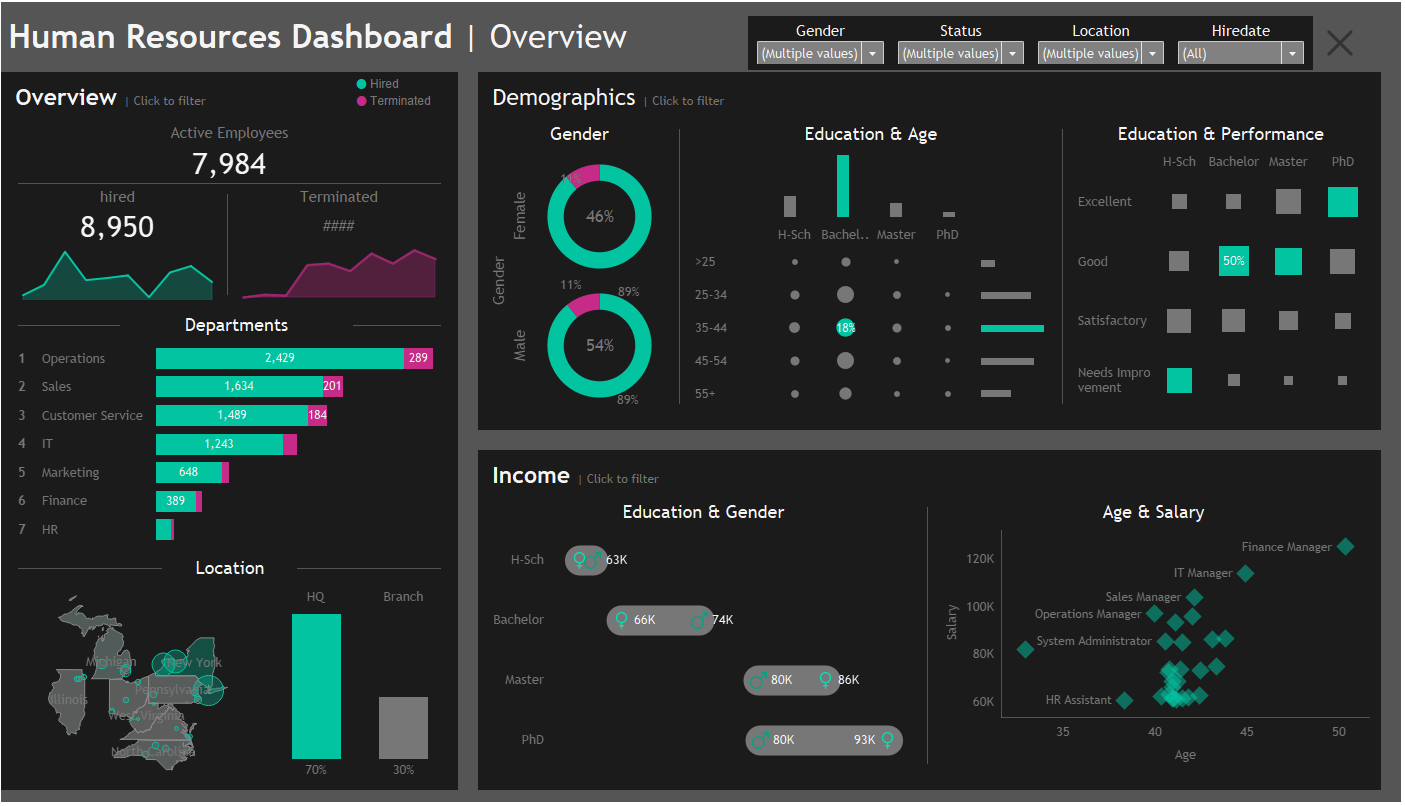

What the dashboard file says about the page in this screenshot:
{"tool":"tableau","page":{"name":"HR Dashboard","canvas":[1400,800],"ordinal":0},"visuals":[{"type":"text","box":[110,0,693,70]},{"type":"blank","box":[803,0,577,70]},{"type":"filter","title":"Gender vs Education level","param":"[federated.1w2r0qb0wcpkq01fmew5211hzvvi].[none:Gender:nk]","box":[749,16,141,50]},{"type":"filter","title":"Gender vs Education level","param":"[federated.1w2r0qb0wcpkq01fmew5211hzvvi].[none:Calculation_566890662182375424:nk","box":[890,16,140,50]},{"type":"filter","title":"Gender vs Education level","param":"[federated.1w2r0qb0wcpkq01fmew5211hzvvi].[none:Calculation_188588274449854466:nk","box":[1030,16,140,50]},{"type":"filter","title":"Gender vs Education level","param":"[federated.1w2r0qb0wcpkq01fmew5211hzvvi].[yr:Hiredate:ok]","box":[1170,16,140,50]},{"type":"image","param":"Image/Logo.png","box":[20,20,70,55]},{"type":"dashboard-object","box":[1320,22,39,38]},{"type":"text","box":[352,75,91,34]},{"type":"text","box":[117,77,333,35]},{"type":"text","box":[484,77,889,35]},{"type":"dashboard-object","box":[30,85,50,50]},{"type":"text","box":[117,112,333,32]},{"type":"text","box":[484,117,189,29]},{"type":"blank","box":[678,117,1,295]},{"type":"text","box":[684,117,372,29]},{"type":"blank","box":[1061,117,1,295]},{"type":"text","box":[1067,117,306,29]},{"type":"dashboard-object","box":[30,135,50,50]},{"type":"worksheet","title":"BAN Active","mark":"Text","box":[117,144,333,37]},{"type":"worksheet","title":"Gender","mark":"Pie","rows":["Gender"],"cols":["Calculation_1471832709374812161","Calculation_1471832709374812161"],"box":[484,146,189,266]},{"type":"worksheet","title":"Education Levels","mark":"Bar","rows":["Calculation_1857453410222510080"],"cols":["Education Level"],"box":[684,146,372,73]},{"type":"worksheet","title":"Education vs Performance","mark":"Square","rows":["Performance Rating"],"cols":["Education Level"],"box":[1067,146,306,266]},{"type":"blank","box":[117,181,333,1]},{"type":"text","box":[117,182,165,26]},{"type":"blank","box":[282,182,1,121]},{"type":"text","box":[283,182,167,26]},{"type":"worksheet","title":"BAN Hired","mark":"Text","box":[117,208,165,34]},{"type":"worksheet","title":"BAN Terminated","mark":"Text","box":[283,208,167,32]},{"type":"worksheet","title":"Age vs Education","mark":"Circle","rows":["Calculation_1471832709377675267"],"cols":["Education Level"],"box":[684,219,292,193]},{"type":"worksheet","title":"Age Groups","mark":"Bar","rows":["Calculation_1471832709377675267"],"cols":["Calculation_1857453410222510080"],"box":[976,219,74,193]},{"type":"worksheet","title":"Terminated by year","mark":"Line","rows":["Calculation_1857453410223058945","Calculation_1857453410223058945"],"cols":["Termdate"],"box":[283,240,167,63]},{"type":"worksheet","title":"Hired by year","mark":"Line","rows":["Calculation_1857453410222510080","Calculation_1857453410222510080"],"cols":["Hiredate"],"box":[117,242,165,61]},{"type":"blank","box":[127,308,102,30]},{"type":"text","box":[229,308,123,30]},{"type":"blank","box":[352,308,88,30]},{"type":"worksheet","title":"Department","mark":"Bar","rows":["Calculation_188588274448809985","Department"],"cols":["Calculation_1857453410222510080"],"box":[117,338,333,208]},{"type":"text","box":[484,455,889,35]},{"type":"text","box":[484,495,437,29]},{"type":"blank","box":[926,495,1,277]},{"type":"text","box":[932,495,441,29]},{"type":"worksheet","title":"Gender vs Education level","mark":"Square","rows":["Education Level"],"cols":["Salary","Salary"],"box":[484,524,437,248]},{"type":"worksheet","title":"Age vs Salary","mark":"Shape","rows":["Salary"],"cols":["Calculation_1471832709376806914"],"box":[932,524,441,248]},{"type":"blank","box":[127,551,107,30]},{"type":"text","box":[234,551,99,30]},{"type":"blank","box":[333,551,107,30]},{"type":"worksheet","title":"Map States","mark":"Automatic","box":[117,581,260,200]},{"type":"worksheet","title":"Location","mark":"Bar","rows":["Calculation_1857453410222510080"],"cols":["Calculation_188588274449854466","Calculation1"],"box":[377,581,73,200]}]}

Visuals, with their boxes in screenshot pixels (x1, y1, x2, y2), scaled from the page's 1400x800 canvas onto the 1405x806 screenshot:
text: select_region(110, 0, 806, 71)
blank: select_region(806, 0, 1385, 71)
"Gender vs Education level" filter: select_region(752, 16, 893, 66)
"Gender vs Education level" filter: select_region(893, 16, 1034, 66)
"Gender vs Education level" filter: select_region(1034, 16, 1174, 66)
"Gender vs Education level" filter: select_region(1174, 16, 1315, 66)
image: select_region(20, 20, 90, 76)
dashboard-object: select_region(1325, 22, 1364, 60)
text: select_region(353, 76, 445, 110)
text: select_region(117, 78, 452, 113)
text: select_region(486, 78, 1378, 113)
dashboard-object: select_region(30, 86, 80, 136)
text: select_region(117, 113, 452, 145)
text: select_region(486, 118, 675, 147)
blank: select_region(680, 118, 681, 415)
text: select_region(686, 118, 1060, 147)
blank: select_region(1065, 118, 1066, 415)
text: select_region(1071, 118, 1378, 147)
dashboard-object: select_region(30, 136, 80, 186)
"BAN Active" worksheet (Text marks): select_region(117, 145, 452, 182)
"Gender" worksheet (Pie marks): select_region(486, 147, 675, 415)
"Education Levels" worksheet (Bar marks): select_region(686, 147, 1060, 221)
"Education vs Performance" worksheet (Square marks): select_region(1071, 147, 1378, 415)
blank: select_region(117, 182, 452, 183)
text: select_region(117, 183, 283, 210)
blank: select_region(283, 183, 284, 305)
text: select_region(284, 183, 452, 210)
"BAN Hired" worksheet (Text marks): select_region(117, 210, 283, 244)
"BAN Terminated" worksheet (Text marks): select_region(284, 210, 452, 242)
"Age vs Education" worksheet (Circle marks): select_region(686, 221, 979, 415)
"Age Groups" worksheet (Bar marks): select_region(979, 221, 1054, 415)
"Terminated by year" worksheet (Line marks): select_region(284, 242, 452, 305)
"Hired by year" worksheet (Line marks): select_region(117, 244, 283, 305)
blank: select_region(127, 310, 230, 341)
text: select_region(230, 310, 353, 341)
blank: select_region(353, 310, 442, 341)
"Department" worksheet (Bar marks): select_region(117, 341, 452, 550)
text: select_region(486, 458, 1378, 494)
text: select_region(486, 499, 924, 528)
blank: select_region(929, 499, 930, 778)
text: select_region(935, 499, 1378, 528)
"Gender vs Education level" worksheet (Square marks): select_region(486, 528, 924, 778)
"Age vs Salary" worksheet (Shape marks): select_region(935, 528, 1378, 778)
blank: select_region(127, 555, 235, 585)
text: select_region(235, 555, 334, 585)
blank: select_region(334, 555, 442, 585)
"Map States" worksheet: select_region(117, 585, 378, 787)
"Location" worksheet (Bar marks): select_region(378, 585, 452, 787)
